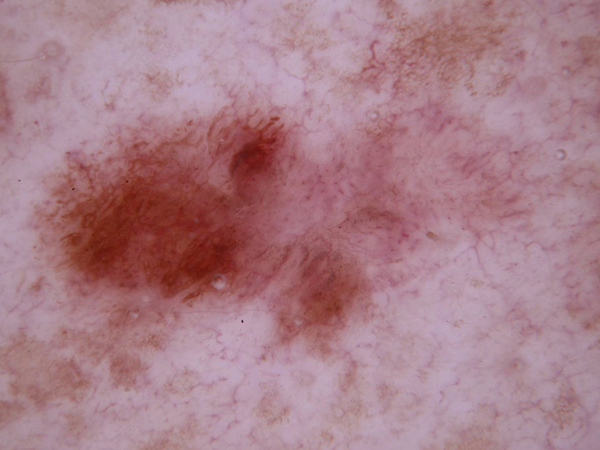Detected Lesion: (50, 114, 376, 341)
